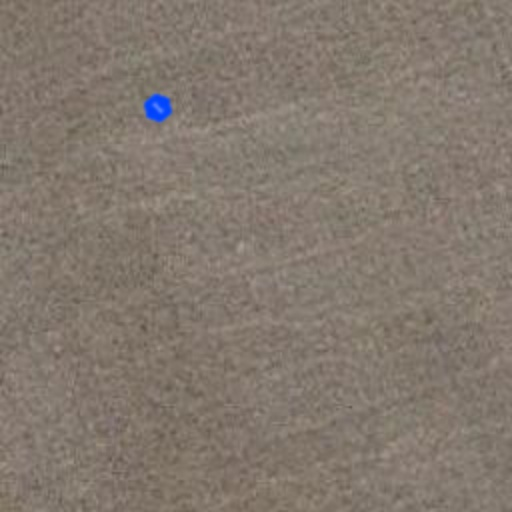hexagon: (136, 86, 180, 130)
